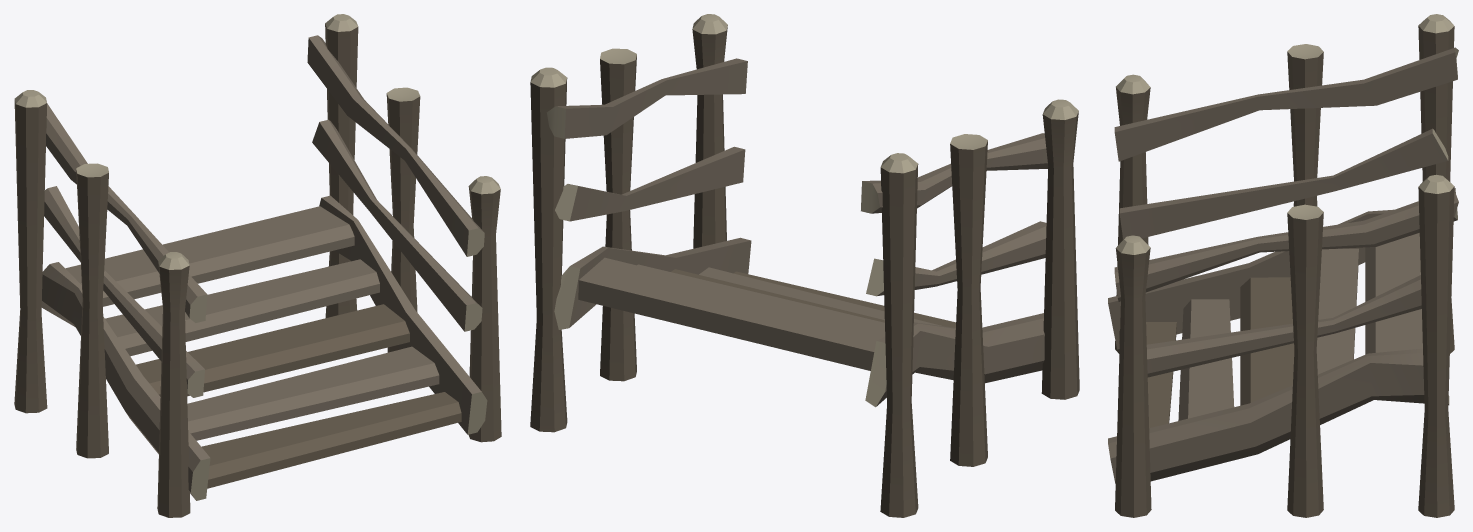
Rendered from _STAIRS_02_.fbx.
The picture shows the model from 3 angles, left to right: view 1: azimuth 30°, elevation 25°; view 2: azimuth 150°, elevation 25°; view 3: azimuth 270°, elevation 25°; orthographic projection. The views are drawn at different scales.
Parts seen in each view (by area): view 1: STAIRS_02_1; view 2: STAIRS_02_1; view 3: STAIRS_02_1.
Part boxes in pixels (x1,y1,x2,y2): STAIRS_02_1: [14, 14, 501, 517]; STAIRS_02_1: [530, 14, 1079, 517]; STAIRS_02_1: [1108, 14, 1458, 517].
Size of the model in its own units: 123 by 109 by 104.
